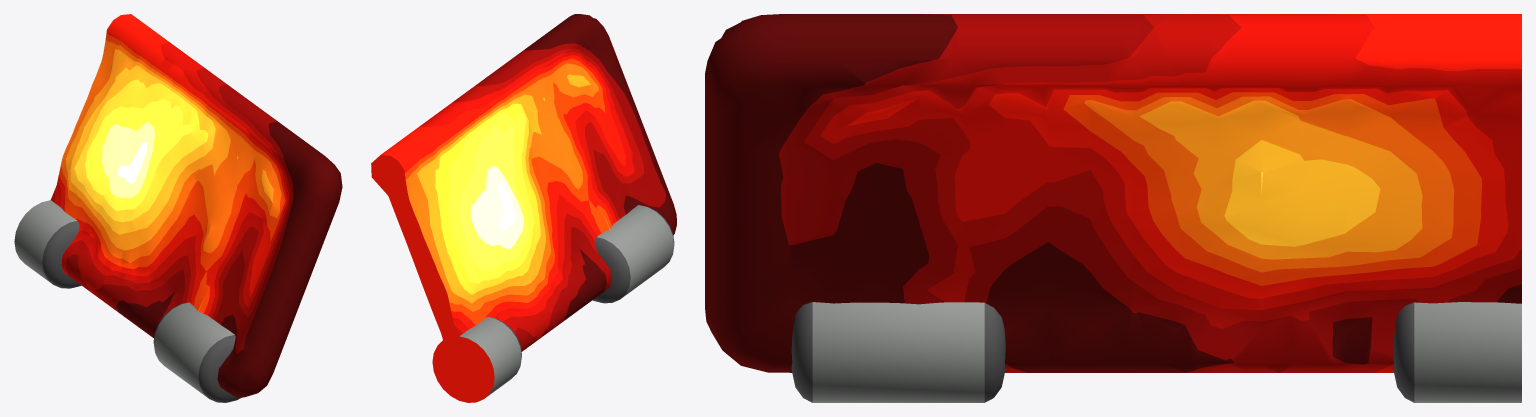
File: fire_flap_273.glb
3 views of the same model, side by side, from view 1: azimuth 30°, elevation 25°; view 2: azimuth 150°, elevation 25°; view 3: azimuth 270°, elevation 25° (orthographic). The views are drawn at different scales.
Visible parts, largest first — view 1: flap.001, knuckle2.001, knuckle1.001; view 2: flap.001, knuckle1.001, knuckle2.001; view 3: flap.001, knuckle2.001, knuckle1.001.
Part boxes in pixels (x1,y1,x2,y2): flap.001: (51, 14, 342, 397); knuckle2.001: (153, 302, 241, 402); knuckle1.001: (14, 200, 81, 288); flap.001: (371, 14, 676, 388); knuckle1.001: (432, 316, 521, 402); knuckle2.001: (592, 205, 674, 303); flap.001: (705, 14, 1521, 372); knuckle2.001: (791, 302, 1005, 402); knuckle1.001: (1393, 302, 1521, 402).
Size of the model in its own units: 6.55 by 11.57 by 19.
